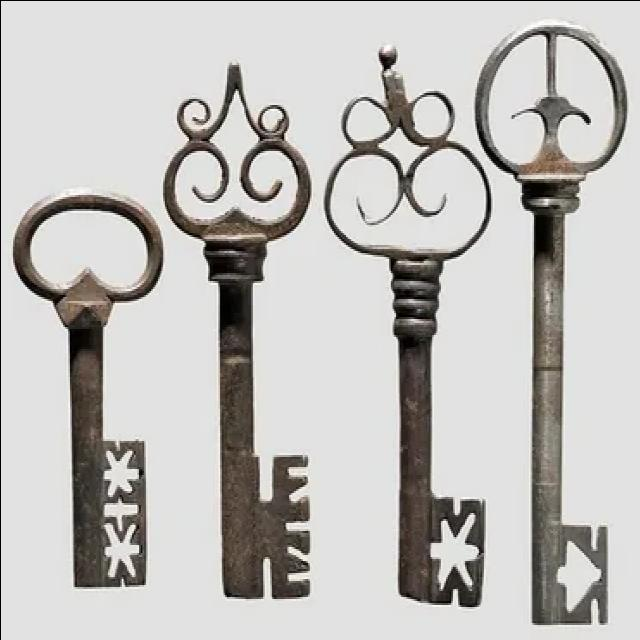key: (471, 0, 637, 640), (0, 182, 168, 620)
